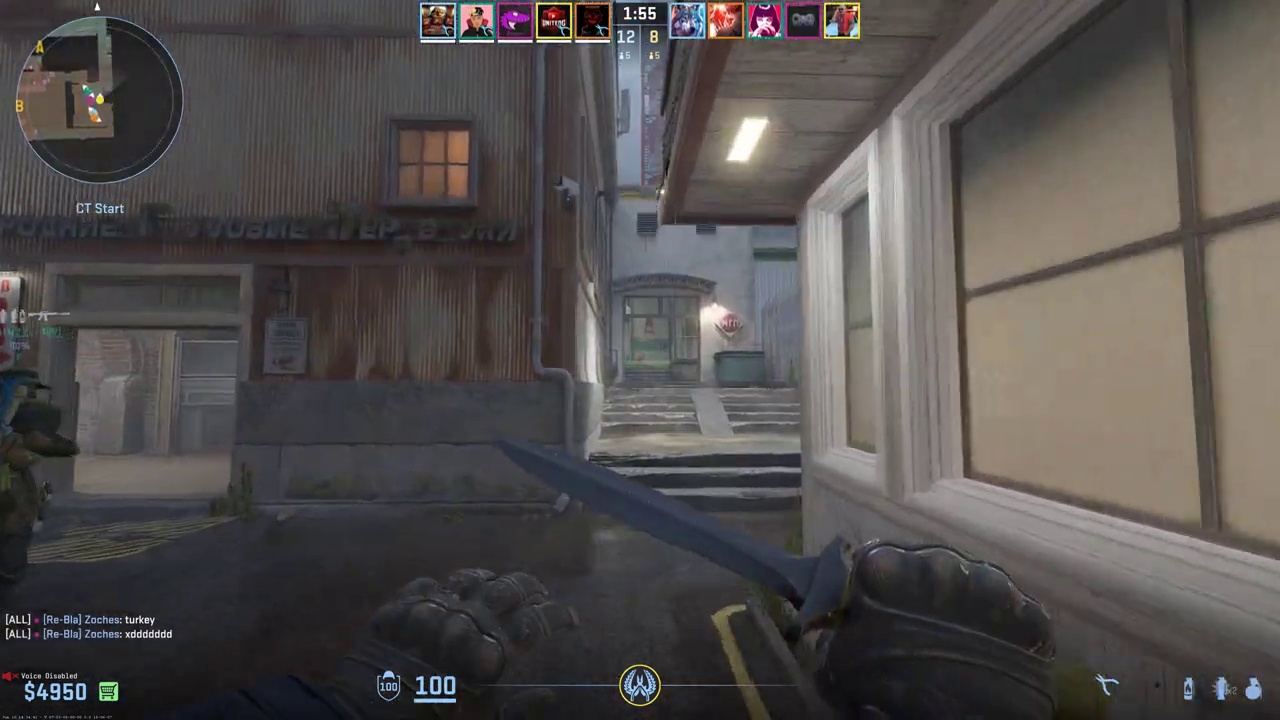CT: (0, 363, 66, 624)
